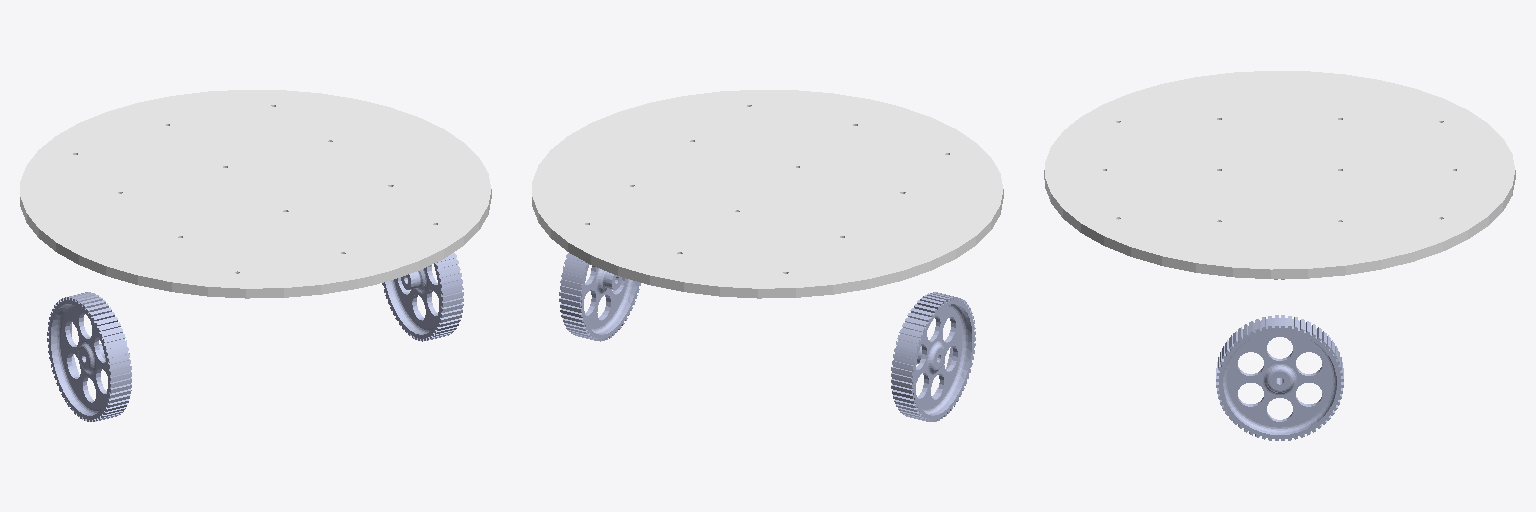
URDF robot description (esprobot):
<robot
  name="esprobot">
  <link
    name="base_link">
    <inertial>
      <origin
        xyz="0.15189 0.28953 0.27519"
        rpy="0 0 0" />
      <mass
        value="0.9145" />
      <inertia
        ixx="0.0070051"
        ixy="5.2127E-24"
        ixz="6.1522E-22"
        iyy="0.014005"
        iyz="-4.4778E-22"
        izz="0.0070101" />
    </inertial>
    <visual>
      <origin
        xyz="0 0 0"
        rpy="0 0 0" />
      <geometry>
        <mesh
          filename="package://esprobot/meshes/base_link.STL" />
      </geometry>
      <material
        name="">
        <color
          rgba="1 1 1 1" />
      </material>
    </visual>
    <collision>
      <origin
        xyz="0 0 0"
        rpy="0 0 0" />
      <geometry>
        <mesh
          filename="package://esprobot/meshes/base_link.STL" />
      </geometry>
    </collision>
  </link>
  <link
    name="Left_Motor">
    <inertial>
      <origin
        xyz="-5.55111512312578E-17 6.66133814775094E-16 0.0127084120721804"
        rpy="0 0 0" />
      <mass
        value="0.0403856509973404" />
      <inertia
        ixx="3.05766741659313E-05"
        ixy="3.40787911055489E-20"
        ixz="8.58199707196664E-21"
        iyy="3.05766741659314E-05"
        iyz="-1.05789652121664E-20"
        izz="5.96938637404994E-05" />
    </inertial>
    <visual>
      <origin
        xyz="0 0 0"
        rpy="0 0 0" />
      <geometry>
        <mesh
          filename="package://esprobot/meshes/Left_Motor.STL" />
      </geometry>
      <material
        name="">
        <color
          rgba="0.792156862745098 0.819607843137255 0.933333333333333 1" />
      </material>
    </visual>
    <collision>
      <origin
        xyz="0 0 0"
        rpy="0 0 0" />
      <geometry>
        <mesh
          filename="package://esprobot/meshes/Left_Motor.STL" />
      </geometry>
    </collision>
  </link>
  <joint
    name="Left_Wheel"
    type="continuous">
    <origin
      xyz="0.28089 -0.27519 0.18903"
      rpy="1.5708 6.123E-17 1.5708" />
    <parent
      link="base_link" />
    <child
      link="Left_Motor" />
    <axis
      xyz="0 0 1" />
  </joint>
  <link
    name="Right_Motor">
    <inertial>
      <origin
        xyz="-5.55111512312578E-17 6.66133814775094E-16 -0.00929158792781959"
        rpy="0 0 0" />
      <mass
        value="0.0403856509973403" />
      <inertia
        ixx="3.05766741659313E-05"
        ixy="6.52215369385811E-20"
        ixz="-2.70083085270677E-21"
        iyy="3.05766741659313E-05"
        iyz="-1.30621673502647E-20"
        izz="5.96938637404994E-05" />
    </inertial>
    <visual>
      <origin
        xyz="0 0 0"
        rpy="0 0 0" />
      <geometry>
        <mesh
          filename="package://esprobot/meshes/Right_Motor.STL" />
      </geometry>
      <material
        name="">
        <color
          rgba="0.792156862745098 0.819607843137255 0.933333333333333 1" />
      </material>
    </visual>
    <collision>
      <origin
        xyz="0 0 0"
        rpy="0 0 0" />
      <geometry>
        <mesh
          filename="package://esprobot/meshes/Right_Motor.STL" />
      </geometry>
    </collision>
  </link>
  <joint
    name="Right_Wheel"
    type="continuous">
    <origin
      xyz="0.00089128 -0.27519 0.18903"
      rpy="1.5708 -1.1583 -1.5708" />
    <parent
      link="base_link" />
    <child
      link="Right_Motor" />
    <axis
      xyz="0 0 -1" />
  </joint>
</robot>

--- Render facts (derived) ---
3 views of the same robot in one strip: view 1: azimuth 30°, elevation 25°; view 2: azimuth 150°, elevation 25°; view 3: azimuth 270°, elevation 25° (orthographic).
Model esprobot with 3 links and 2 joints (2 continuous), rooted at base_link, posed every joint at zero.
Links seen in each view (by area): view 1: base_link, Right_Motor, Left_Motor; view 2: base_link, Right_Motor, Left_Motor; view 3: base_link, Left_Motor.
Link boxes in pixels (left/top/right/bottom): base_link: left=20, top=90, right=491, bottom=298; Right_Motor: left=47, top=292, right=131, bottom=421; Left_Motor: left=382, top=253, right=463, bottom=341; base_link: left=532, top=90, right=1003, bottom=298; Right_Motor: left=891, top=292, right=975, bottom=421; Left_Motor: left=559, top=253, right=640, bottom=341; base_link: left=1044, top=71, right=1515, bottom=278; Left_Motor: left=1216, top=315, right=1343, bottom=440.
Bounding box of the posed robot: 0.3497 × 0.35 × 0.152 m (x, y, z).
Meshes: 3 distinct files referenced, 3 mesh visuals loaded (3 binary STL).